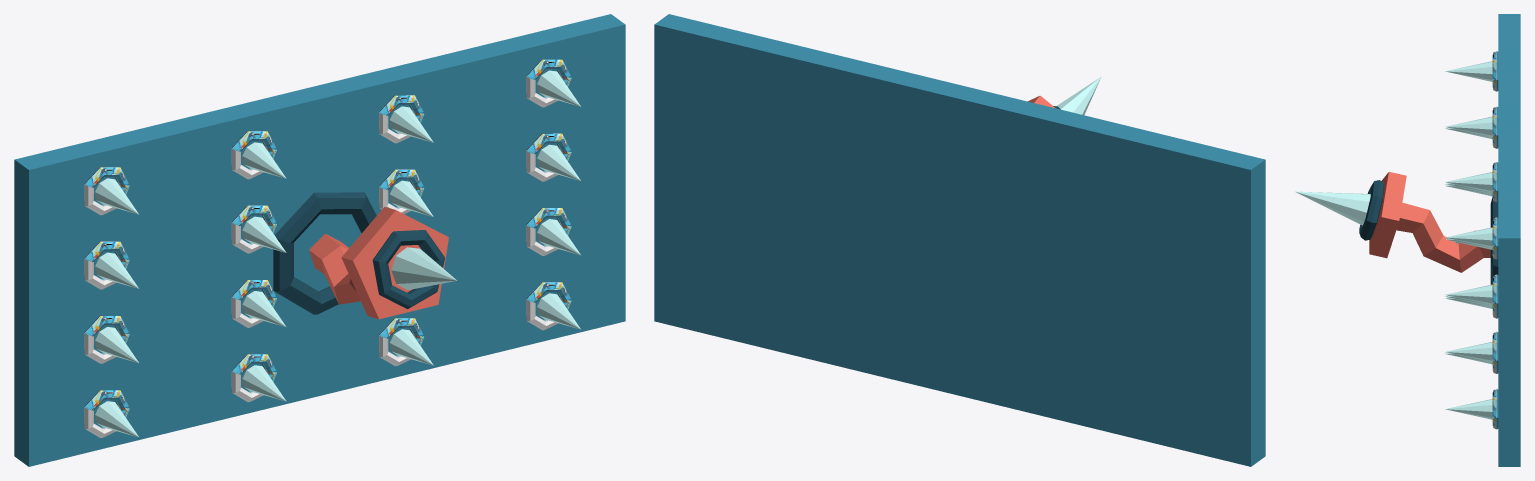
The model's file is DıkenlıDuvar2.fbx.
3 views of the same model, side by side, from view 1: azimuth 30°, elevation 25°; view 2: azimuth 150°, elevation 25°; view 3: azimuth 270°, elevation 25° (orthographic). The views are drawn at different scales.
Parts seen in each view (by area): view 1: Torus.001; view 2: Torus.001; view 3: Torus.001.
Part boxes in pixels (x1,y1,x2,y2): Torus.001: (14,14,625,466); Torus.001: (654,14,1265,466); Torus.001: (1295,14,1520,466).
Size of the model in its own units: 1851 by 880 by 789.
